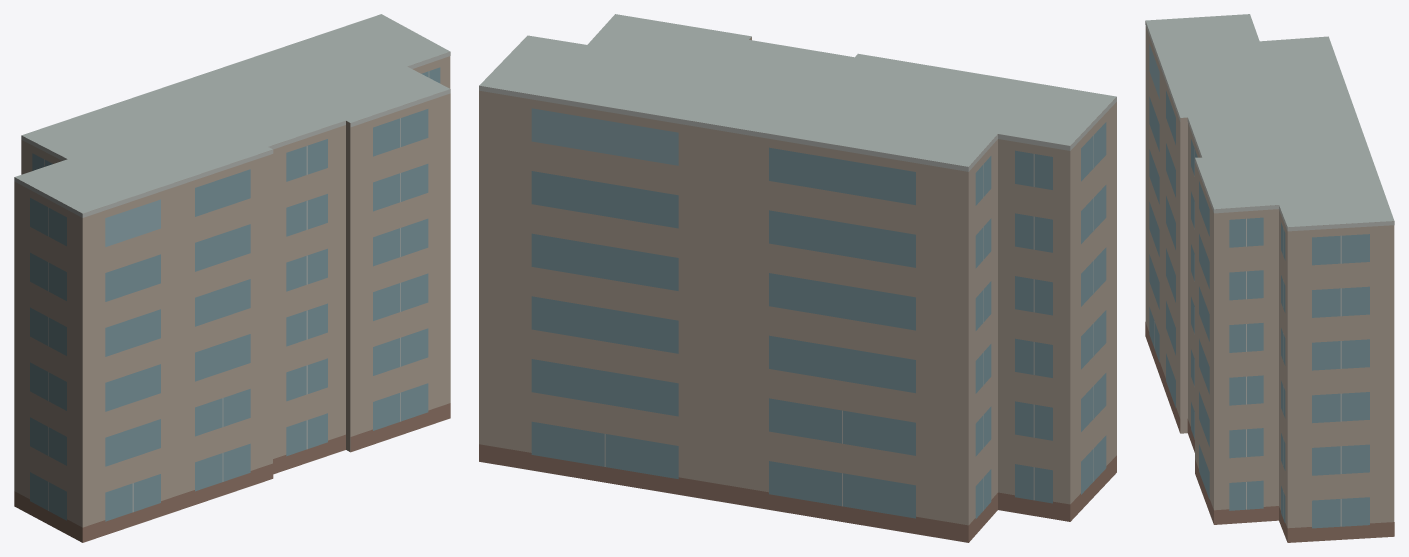
File: survey-upis-32649184.glb
The picture shows the model from 3 angles, left to right: view 1: azimuth 30°, elevation 25°; view 2: azimuth 150°, elevation 25°; view 3: azimuth 270°, elevation 25°; orthographic projection. The views are drawn at different scales.
Parts seen in each view (by area): view 1: survey-upis-32649184.tmp; view 2: survey-upis-32649184.tmp; view 3: survey-upis-32649184.tmp.
Boxes of the visible parts, x1,y1,x2,y2 form: survey-upis-32649184.tmp: [14, 14, 450, 542]; survey-upis-32649184.tmp: [479, 14, 1116, 542]; survey-upis-32649184.tmp: [1145, 14, 1394, 542].
Bounding box in the file's own units: 26.51 × 18.3 × 13.09.
